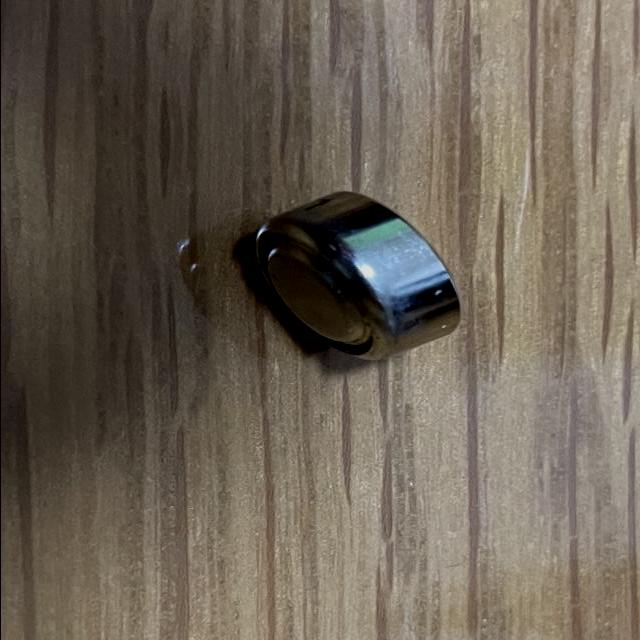COIN: (253, 189, 462, 361)
